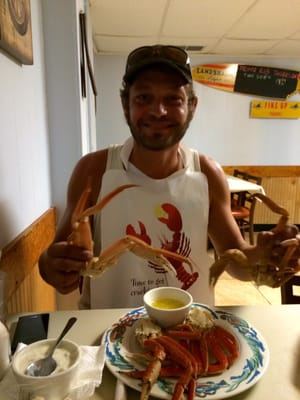salad: (36, 317, 77, 375), (44, 317, 77, 359)
sushi: (10, 337, 81, 400), (143, 286, 193, 328)
